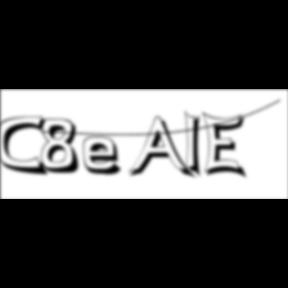8: (42, 117, 86, 176)
A: (128, 116, 198, 182)
C: (0, 115, 52, 178)
E: (202, 110, 252, 182)
e: (83, 135, 129, 178)
l: (186, 108, 208, 182)
